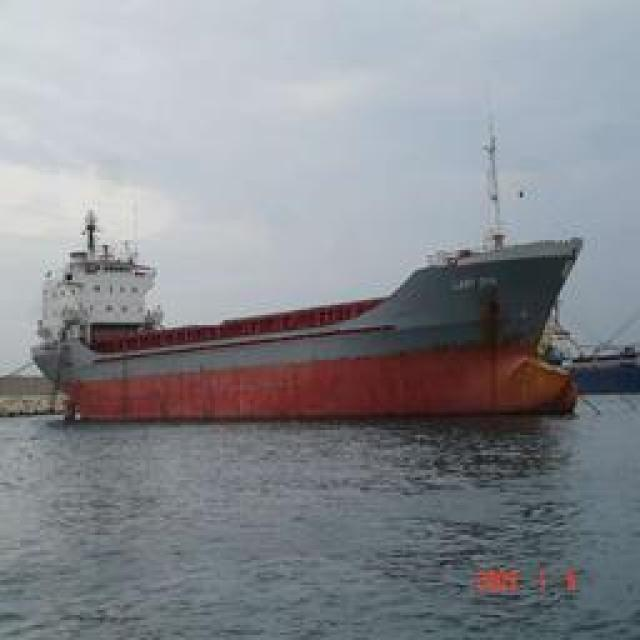ship2: (29, 128, 584, 423)
